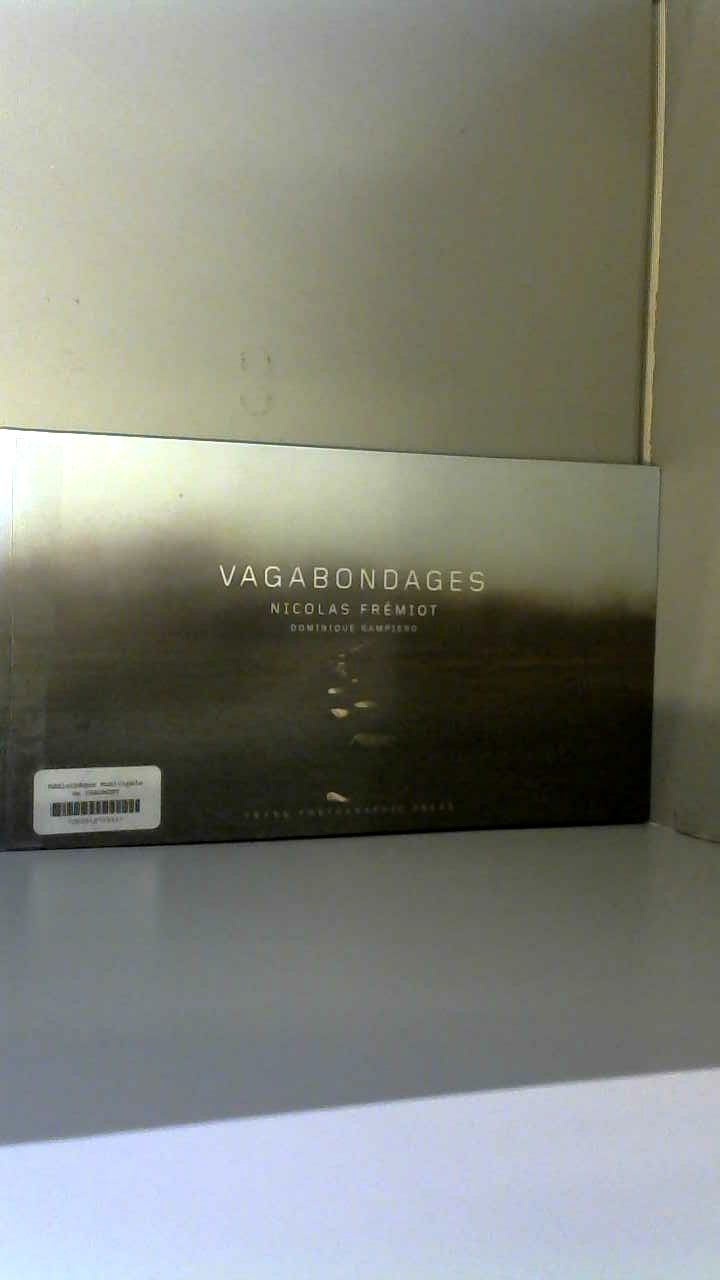book: (0, 416, 673, 868)
